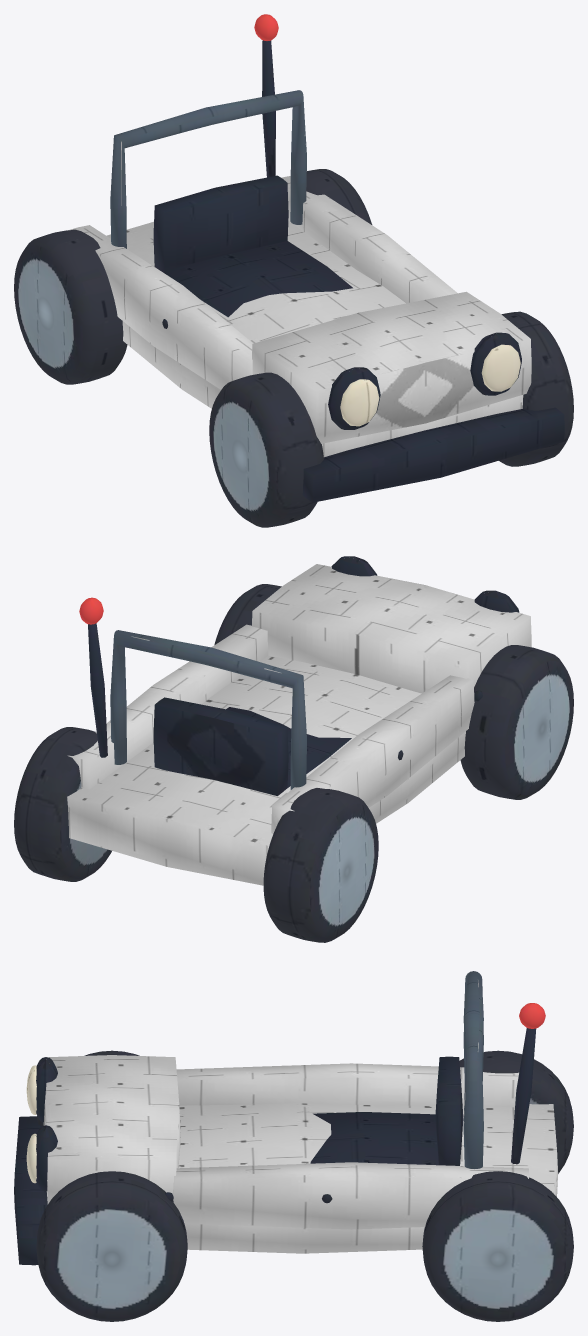
File: kart.glb
3 views of the same model, one above another, from view 1: azimuth 30°, elevation 25°; view 2: azimuth 150°, elevation 25°; view 3: azimuth 270°, elevation 25° (orthographic).
Visible parts, largest first — view 1: body_paint, body_details, wheel_FR, wheel_RR, wheel_FL, antenna, wheel_RL; view 2: body_paint, body_details, wheel_RR, wheel_FR, wheel_RL, antenna, wheel_FL; view 3: body_paint, wheel_FL, wheel_RL, body_details, wheel_RR, antenna.
Part boxes in pixels (x1,y1,x2,y2): body_paint: (67,176,531,457); body_details: (110,90,564,502); wheel_FR: (209,372,323,527); wheel_RR: (14,229,127,384); wheel_FL: (499,311,573,466); antenna: (254,14,278,177); wheel_RL: (306,169,372,224); body_paint: (67,564,531,885); body_details: (110,556,519,795); wheel_RR: (263,788,378,942); wheel_FR: (460,645,573,799); wheel_RL: (14,727,111,881); antenna: (79,597,107,757); wheel_FL: (214,584,281,644); body_paint: (43,1055,558,1253); wheel_FL: (36,1171,187,1321); wheel_RL: (422,1171,573,1321); body_details: (14,971,483,1265); wheel_RR: (459,1050,573,1173); antenna: (511,1003,545,1164).
Size of the model in its own units: 1.6 by 1.5 by 2.6.
Materials: 2 (2 with a texture image).
